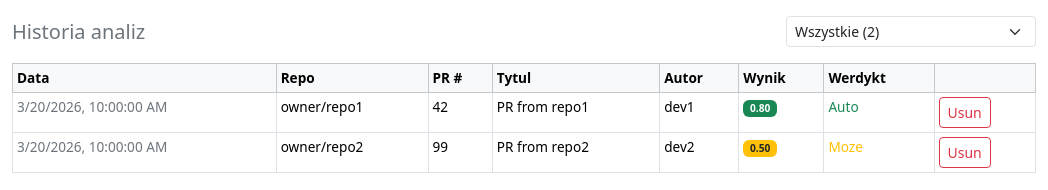
Test case: AnalysisHistory › filters rows by repo when dropdown changed
expect the text "PR from repo1" is shown: met, box [492,93,660,133]
expect the text "PR from repo2" is shown: met, box [492,133,660,173]
Filter to repo2 only
Step 1. Select "owner/repo2 (1)" in the dropdown showing "Wszystkie" → (911, 32), box [786,16,1036,47]
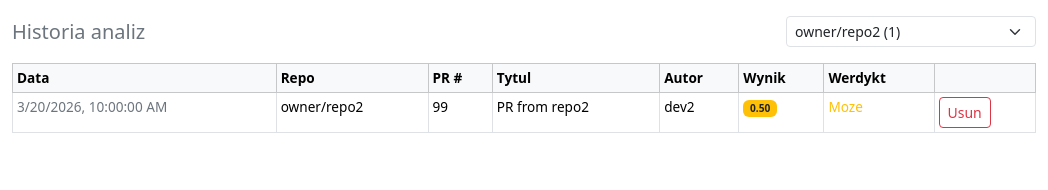
expect the text "PR from repo2" is shown: met, box [492,93,660,133]
expect the link "PR from repo1" is gone: met
